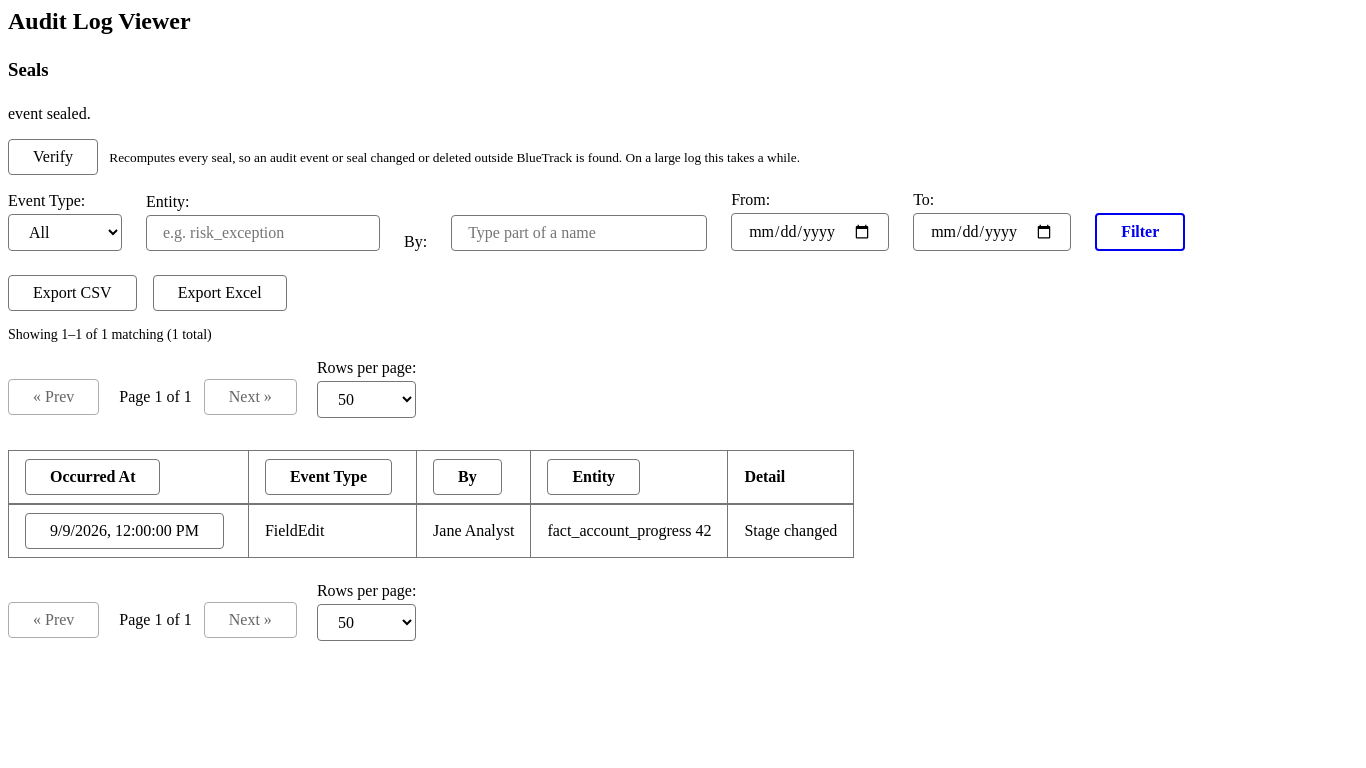
Test: AuditLogViewer.vue: event types, local times and Clear filters (UI review W11-1, W11-4, W11-5) › Clear filters appears with a filter set and reloads with none
The image size is (1366, 768).
Type "risk_exception" into the field with placeholder "e.g. risk_exception" at (263, 233), box [146, 215, 380, 251]
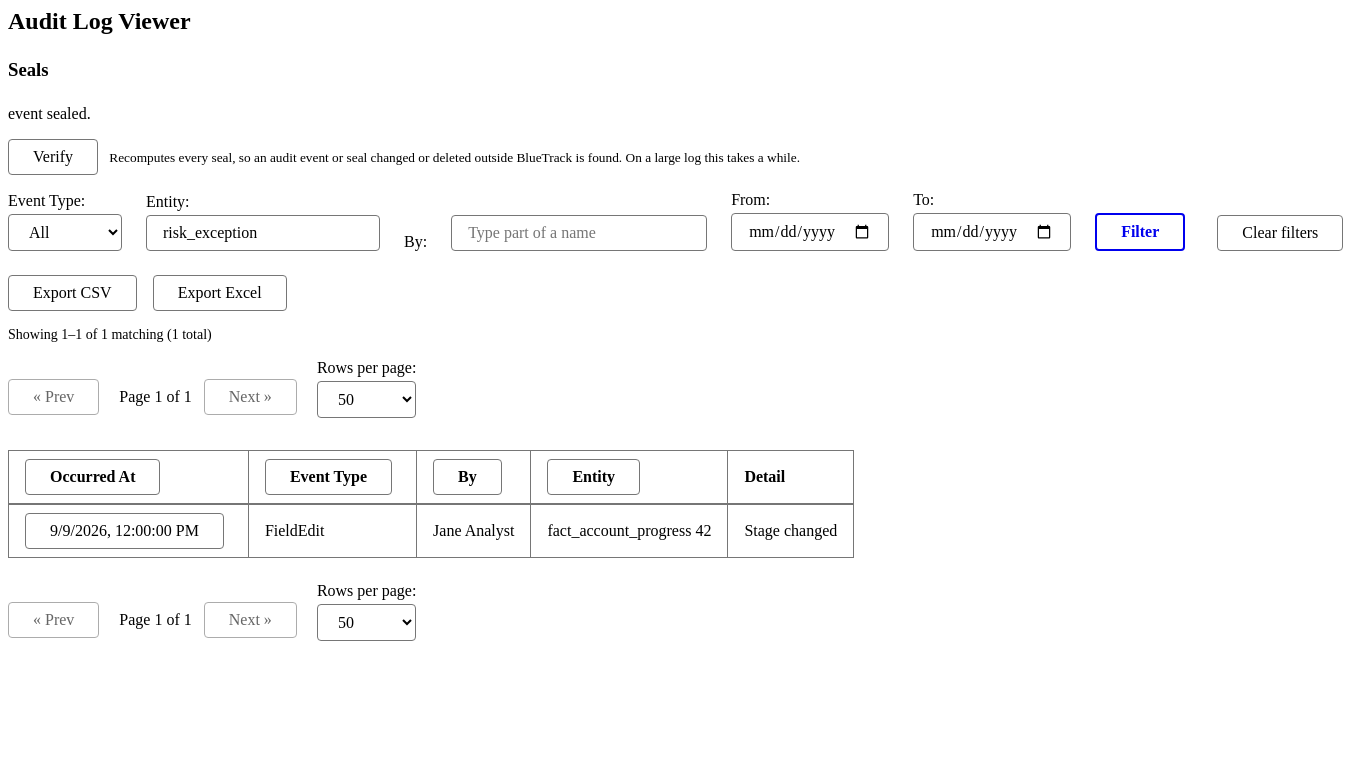
Now the button "Clear filters" is shown
Click the button "Clear filters" at (1280, 233), box [1217, 215, 1343, 251]
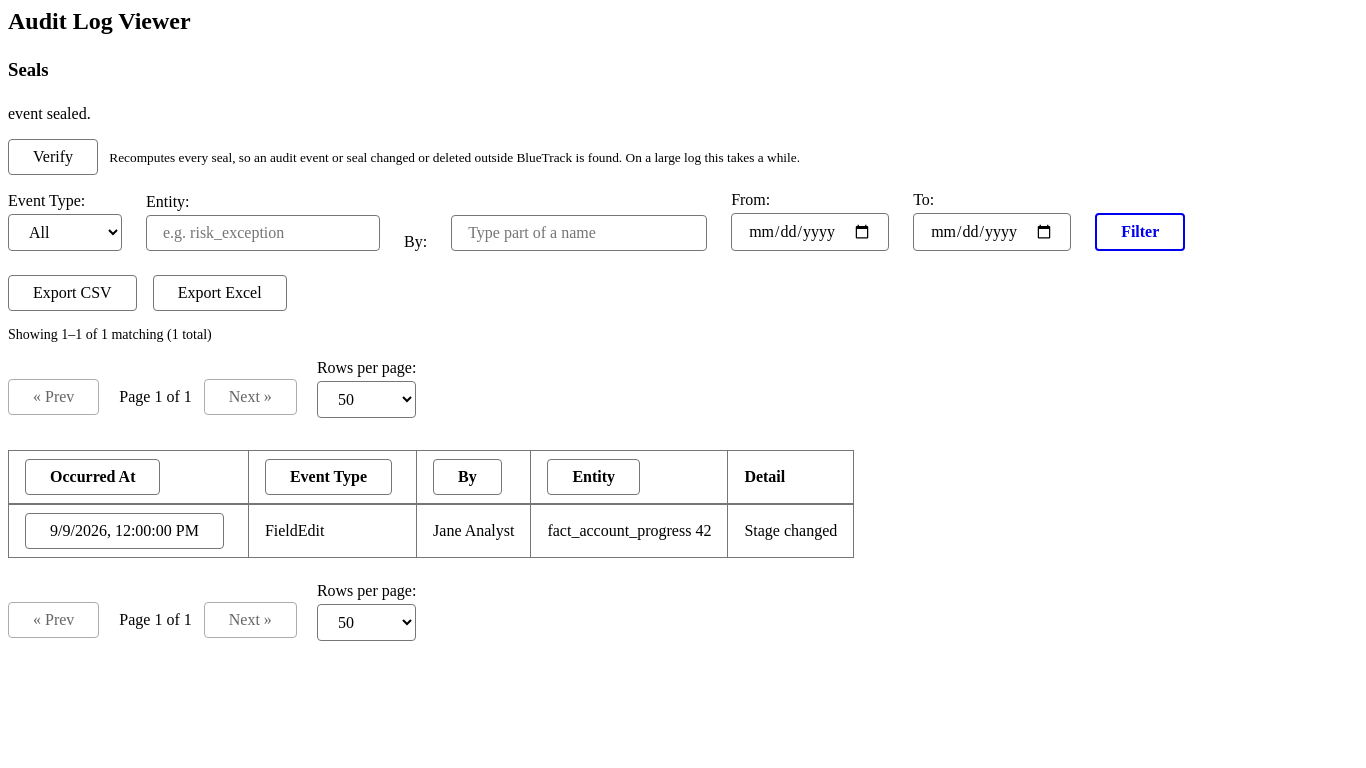
Now the field with placeholder "e.g. risk_exception" is empty, box [146, 215, 380, 251]
